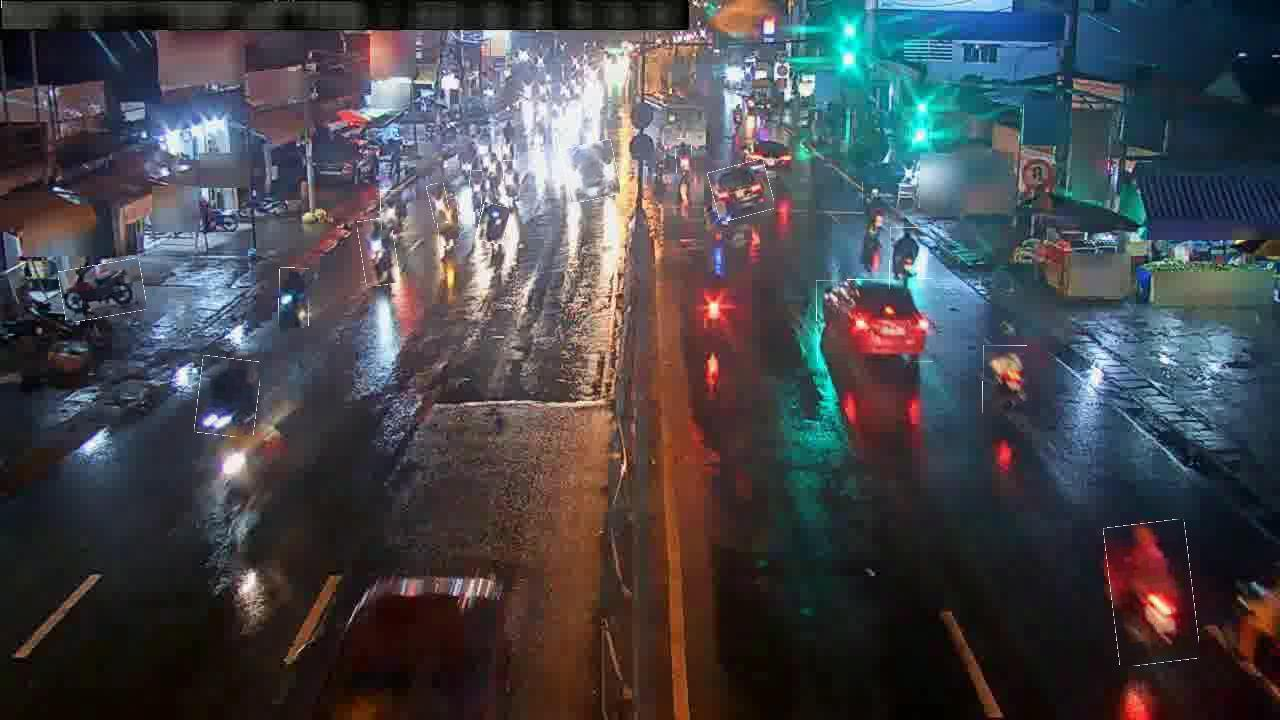container: (817, 279, 934, 363), (710, 162, 773, 219), (563, 142, 619, 201)
motorbike: (1107, 521, 1196, 665), (196, 357, 259, 437), (60, 262, 146, 320), (983, 345, 1028, 414), (360, 218, 398, 286), (278, 268, 310, 327), (890, 227, 919, 290), (862, 182, 886, 238), (477, 204, 508, 244), (436, 197, 459, 247), (381, 190, 406, 231), (428, 184, 449, 224), (676, 139, 693, 179), (468, 170, 483, 213), (504, 160, 519, 197)
